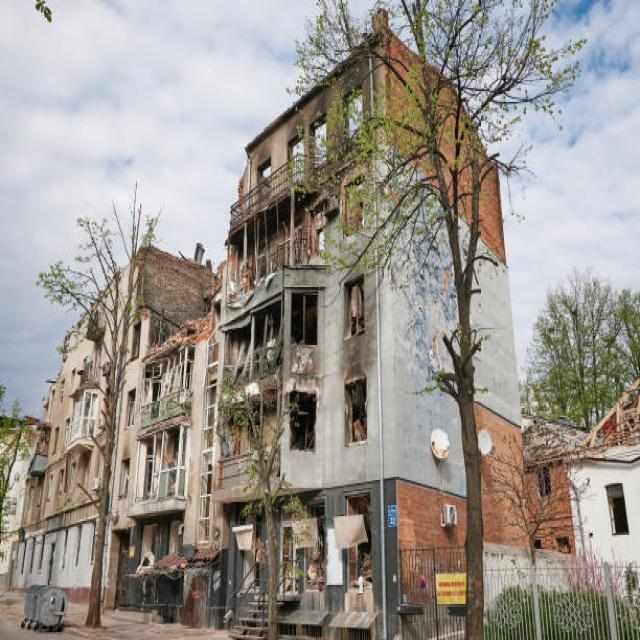broken_window: (286, 389, 316, 452), (343, 375, 367, 445), (604, 481, 628, 535)
building: (208, 6, 528, 637), (8, 240, 216, 616)
damaged_roof: (226, 6, 507, 282)
